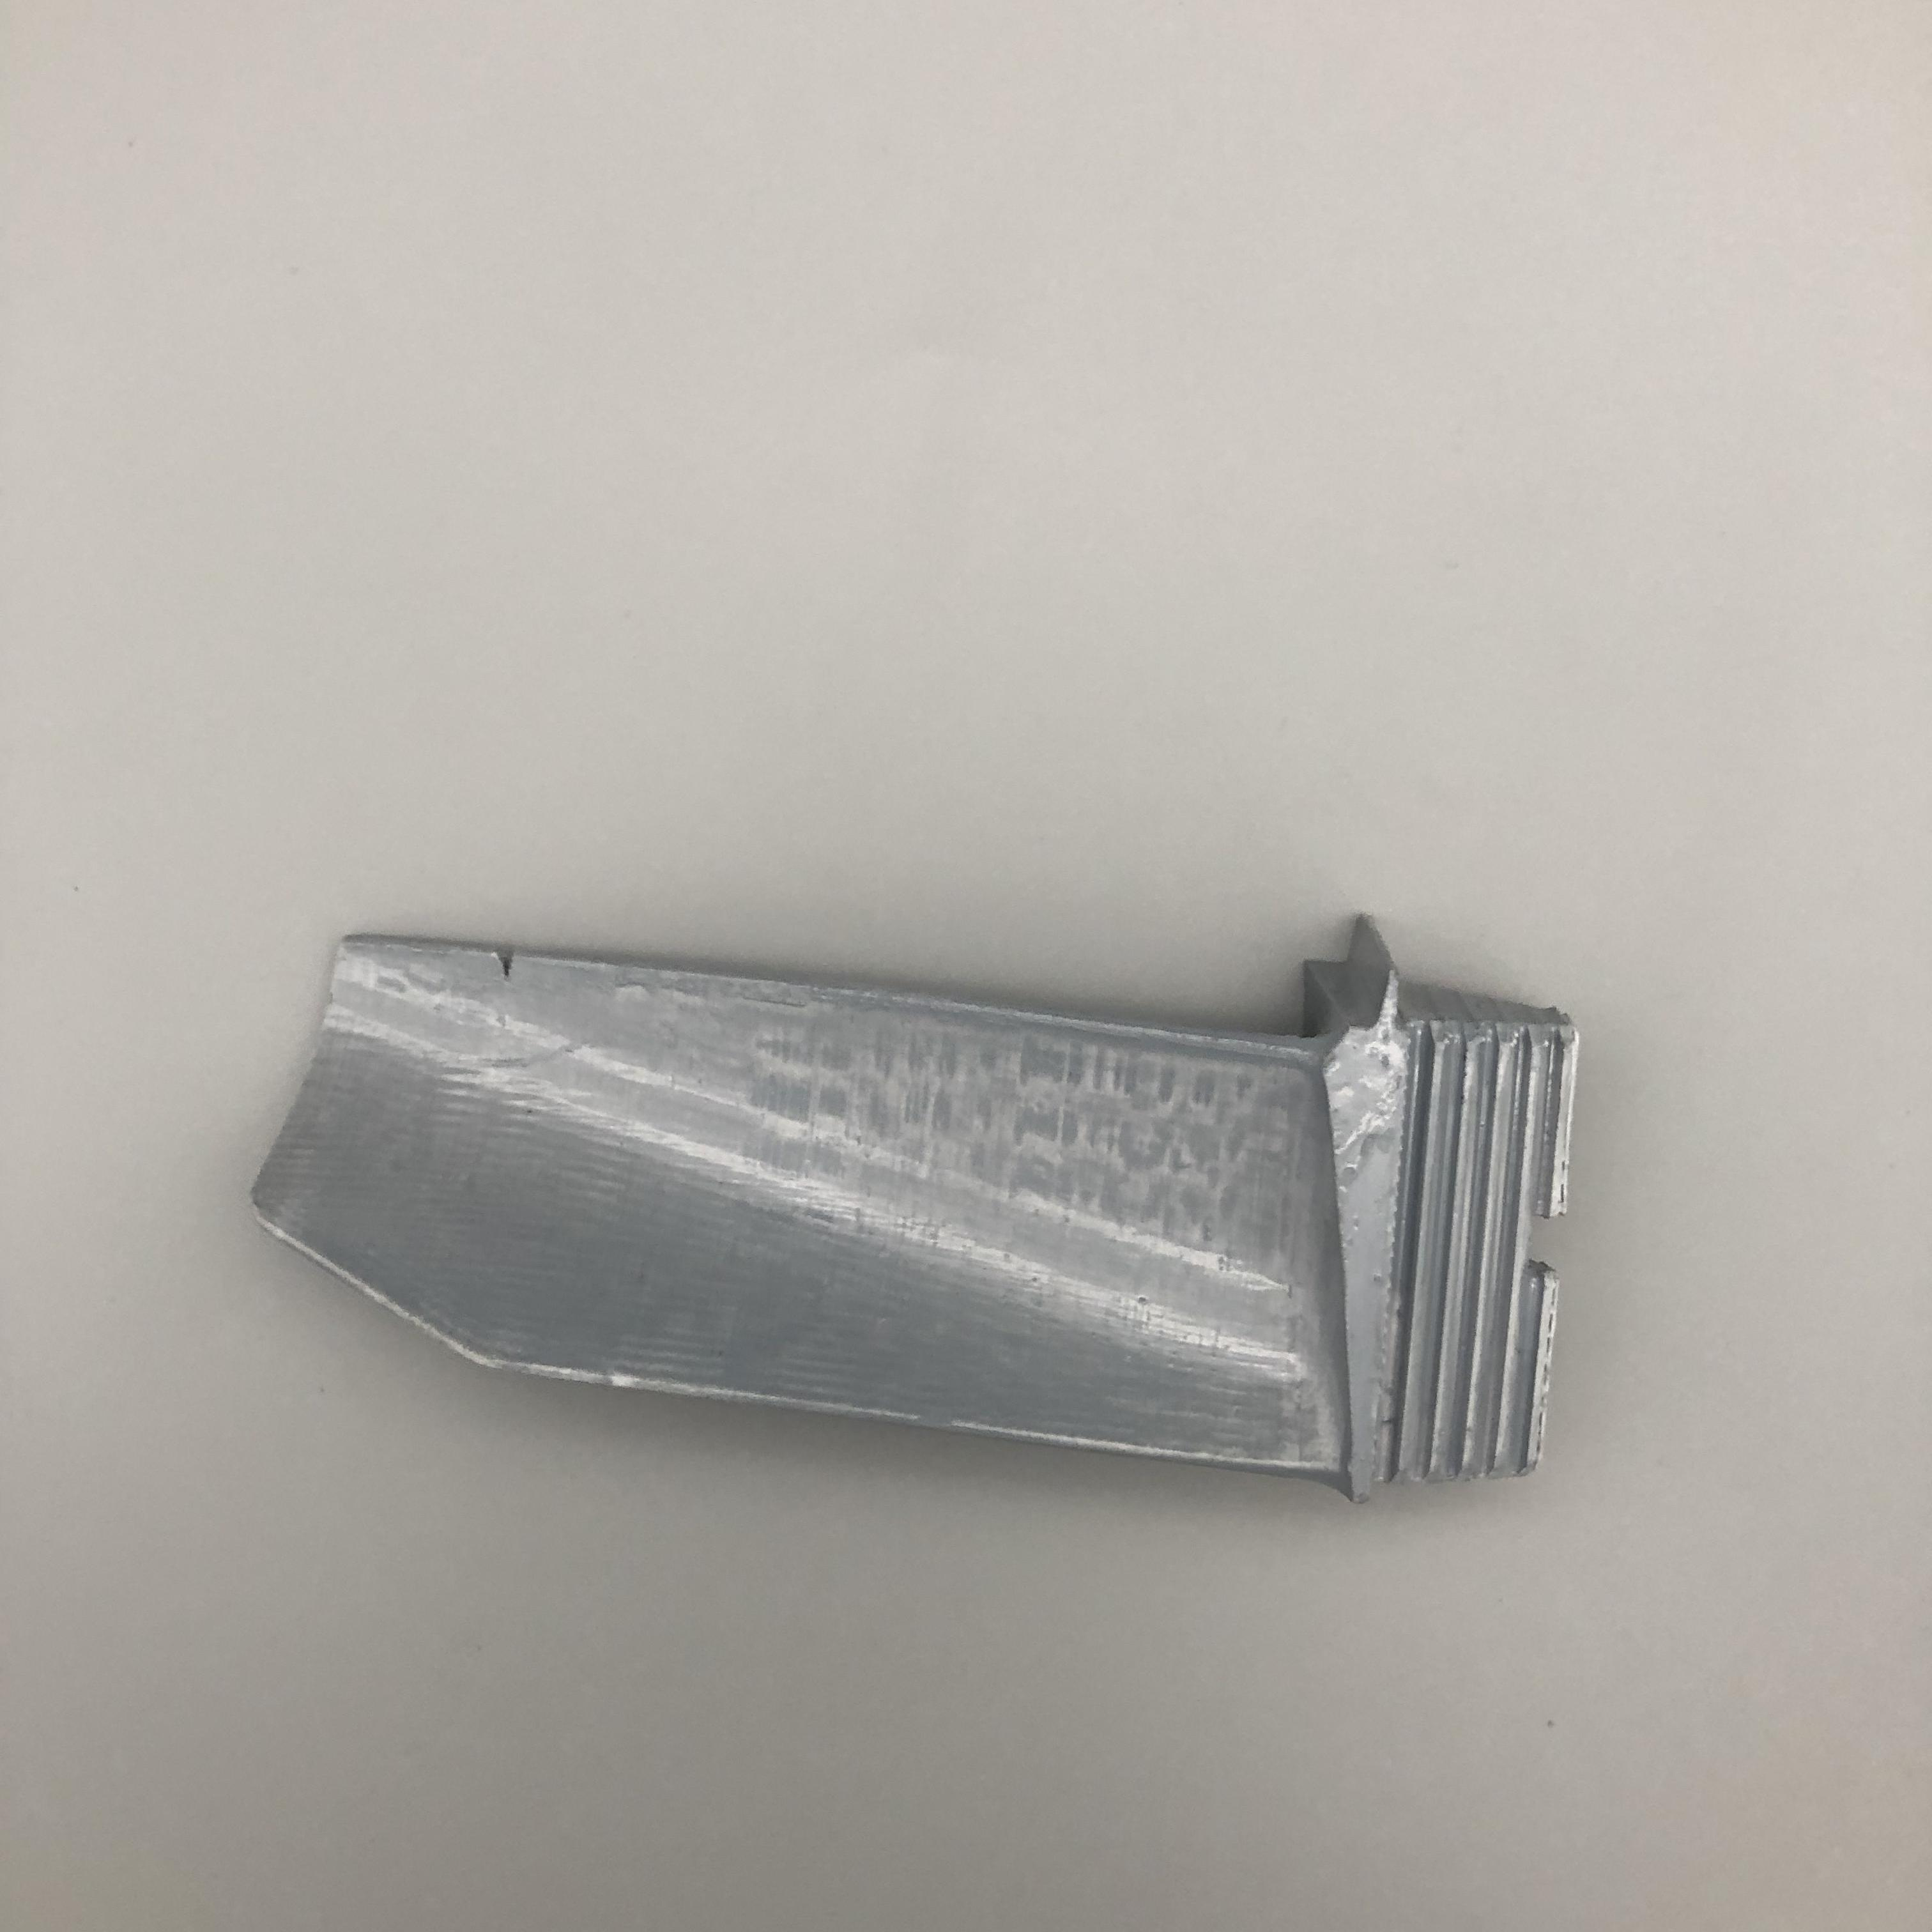groove: (476, 943, 550, 991)
